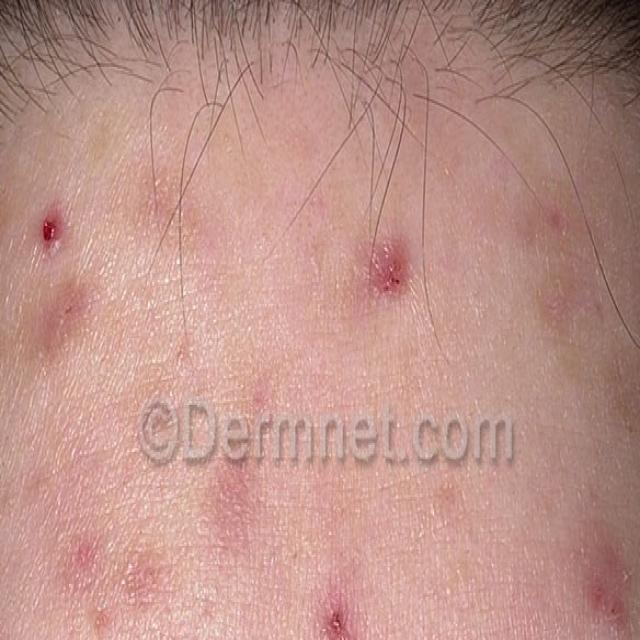Acne: (495, 183, 640, 483), (200, 366, 271, 560), (63, 520, 162, 640), (126, 177, 227, 286), (588, 531, 639, 640), (345, 242, 408, 307), (48, 284, 105, 355), (32, 200, 74, 264), (319, 591, 366, 640)
